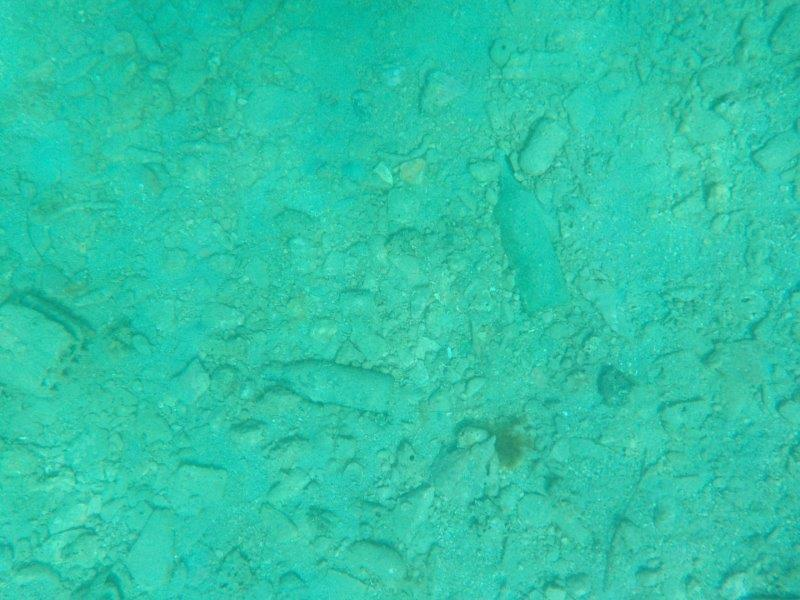bottle: (486, 147, 571, 316), (255, 353, 401, 421)
